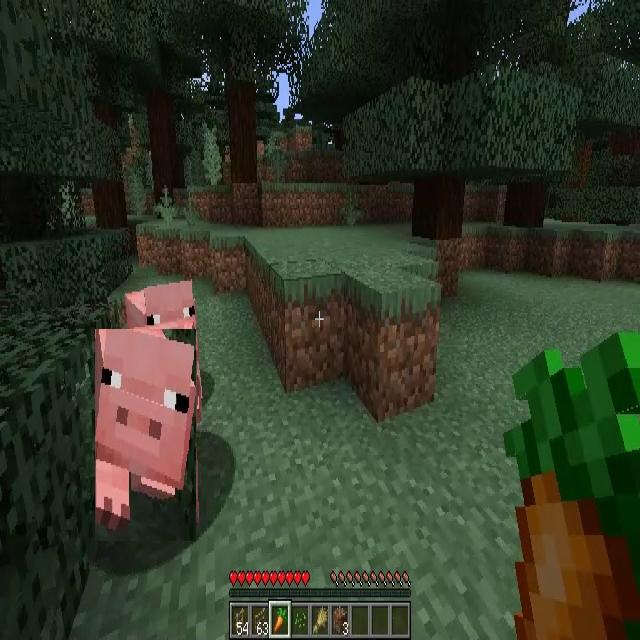pig: (95, 329, 196, 542), (126, 278, 198, 340)
